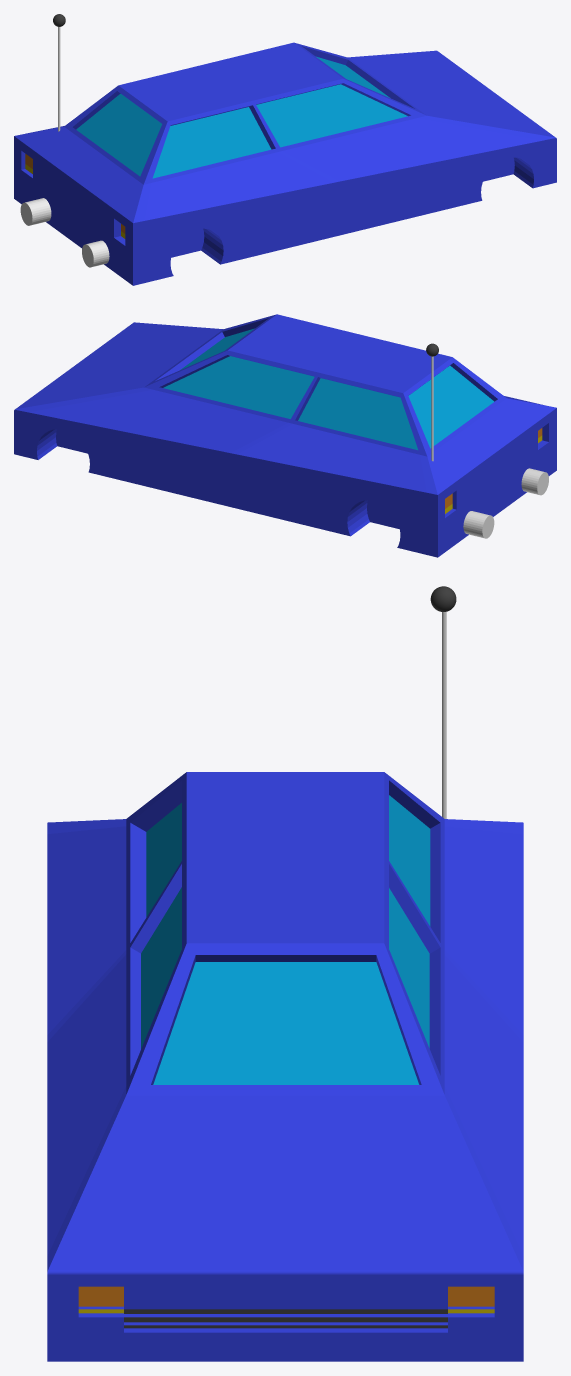
File: DankCar.fbx
3 views of the same model, one above another, from view 1: azimuth 30°, elevation 25°; view 2: azimuth 150°, elevation 25°; view 3: azimuth 270°, elevation 25° (orthographic). The views are drawn at different scales.
Parts seen in each view (by area): view 1: Cube, Cylinder, Cylinder.001; view 2: Cube, Cylinder, Cylinder.001, Cylinder.002; view 3: Cube, Cylinder.002.
Boxes of the visible parts, <box> form: Cube: <box>14,42,556,285</box>; Cylinder: <box>20,198,51,225</box>; Cylinder.001: <box>82,240,109,267</box>; Cube: <box>14,314,556,557</box>; Cylinder: <box>463,511,494,538</box>; Cylinder.001: <box>521,468,548,495</box>; Cylinder.002: <box>431,356,433,461</box>; Cube: <box>47,772,523,1361</box>; Cylinder.002: <box>442,611,446,818</box>.
Size of the model in its own units: 429 by 178 by 200.
